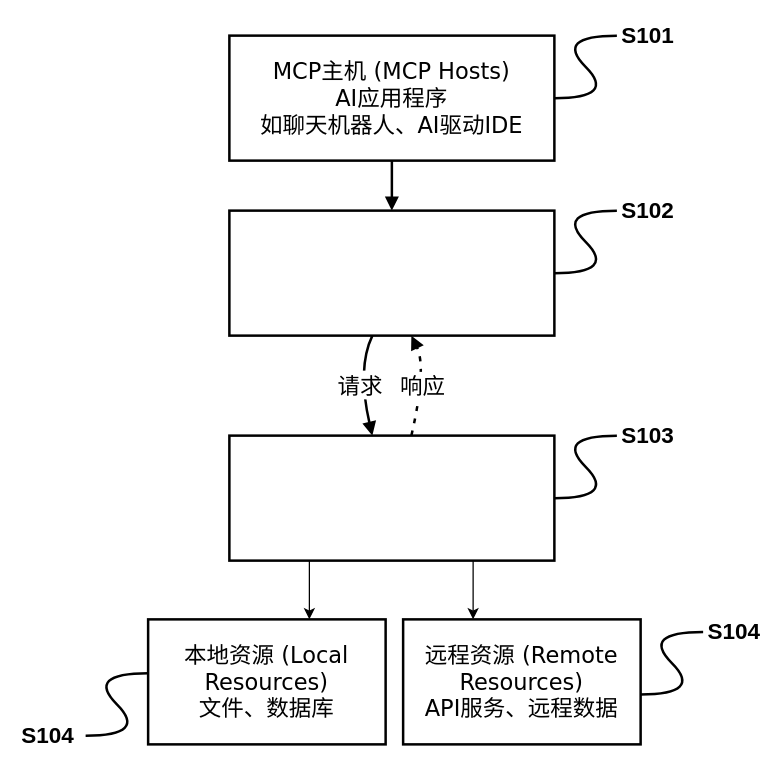
Some shapes in this 781 by 770 pixel diagram are drawn without their labels. Here are the shapes that lost their labels. From the top down, the box of each, then its label:
(228, 209, 555, 336): MCP客户端 (MCP Clients) 与服务器1:1连接
(228, 434, 555, 561): MCP服务器 (MCP Servers) 提供上下文、工具和提示信息
